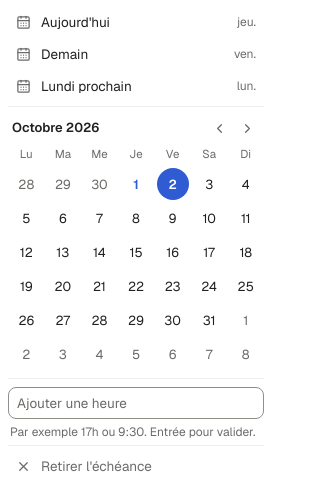
DatePicker › does not echo server values into the time field per keystroke (bug #1)
Type "17h45" into the field labelled "heure".
click(136, 403); type("17h45")  # box [8,387,264,419]
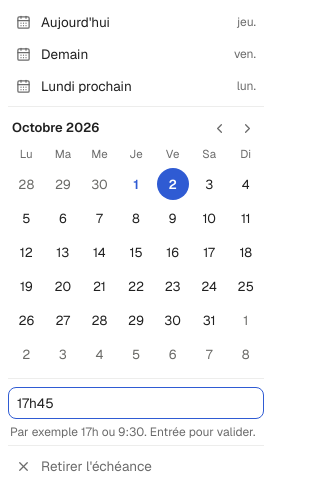
Press Enter
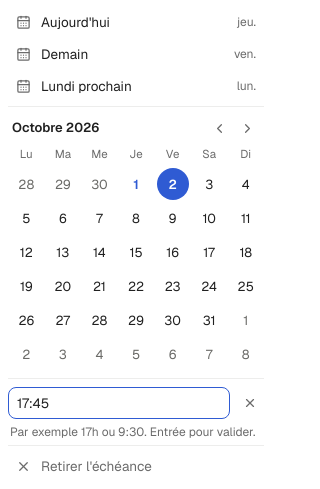
Expected: the field named "heure" holds "17:45", [8,387,230,419]
